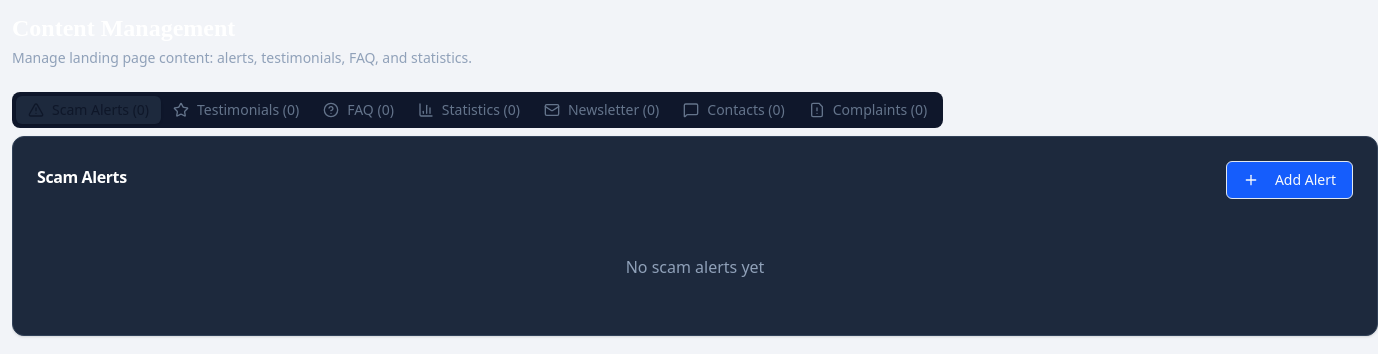
Scenario: ContentManagement — Export CSV button › button is absent when subscriber list is empty
This screenshot has width=1378, height=354.
Click the tab with test id "content-tab-newsletter" at (602, 110), box [532,96,671,124]
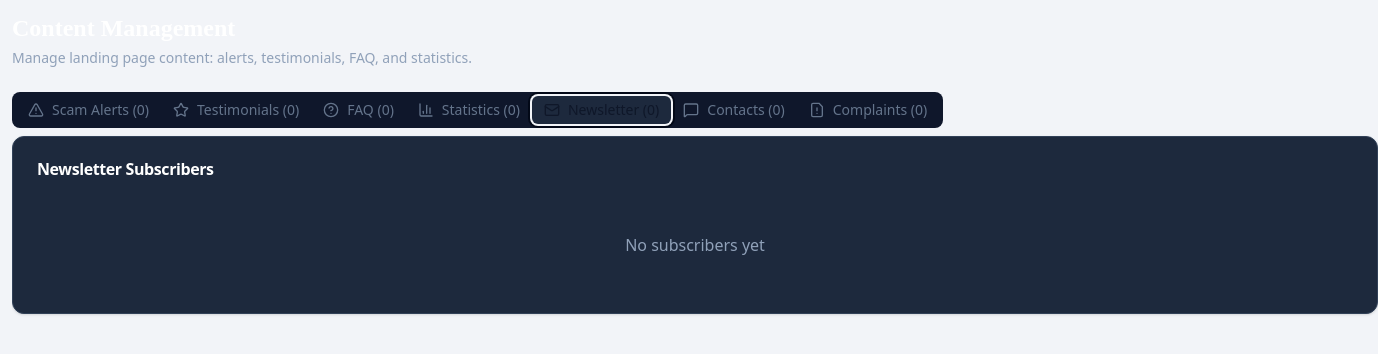
Now the text "No subscribers yet" is shown, box [625,234,765,256]
